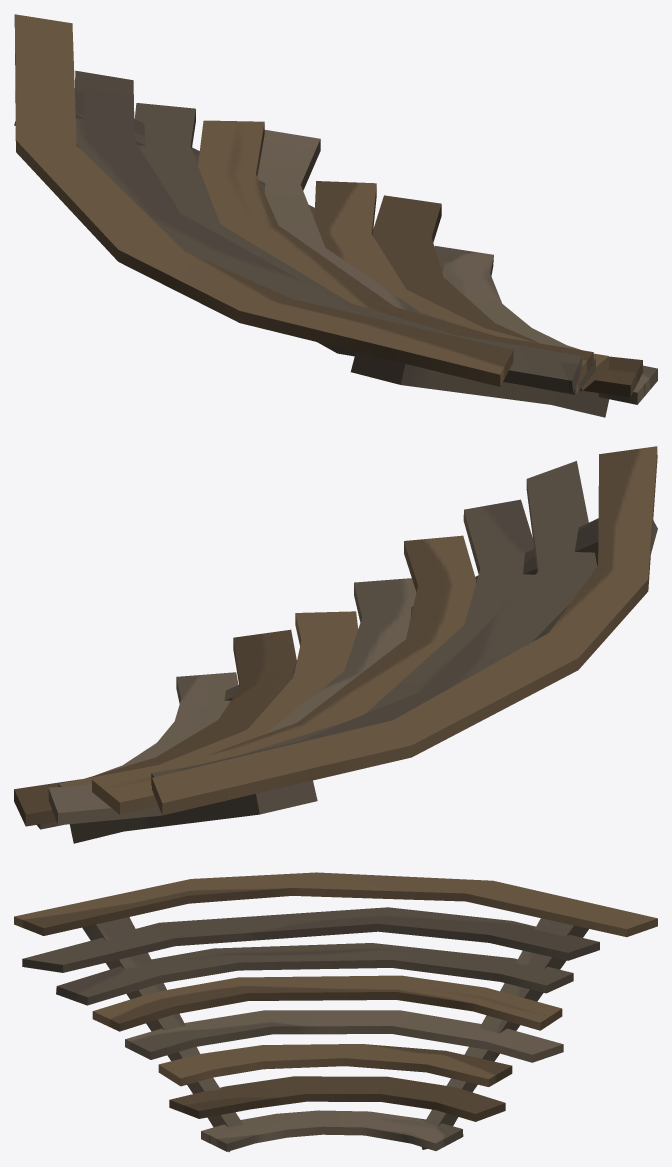
The model's file is SM_Bld_Dock_Stairs_03.fbx.
The picture shows the model from 3 angles, top to bottom: view 1: azimuth 30°, elevation 25°; view 2: azimuth 150°, elevation 25°; view 3: azimuth 270°, elevation 25°; orthographic projection. The views are drawn at different scales.
Visible parts, largest first — view 1: SM_Bld_Dock_Stairs_03; view 2: SM_Bld_Dock_Stairs_03; view 3: SM_Bld_Dock_Stairs_03.
Part boxes in pixels (bbox=[...]): SM_Bld_Dock_Stairs_03: bbox=[14, 14, 657, 417]; SM_Bld_Dock_Stairs_03: bbox=[14, 446, 657, 843]; SM_Bld_Dock_Stairs_03: bbox=[14, 872, 657, 1151].
Size of the model in its own units: 288 by 134 by 520.
